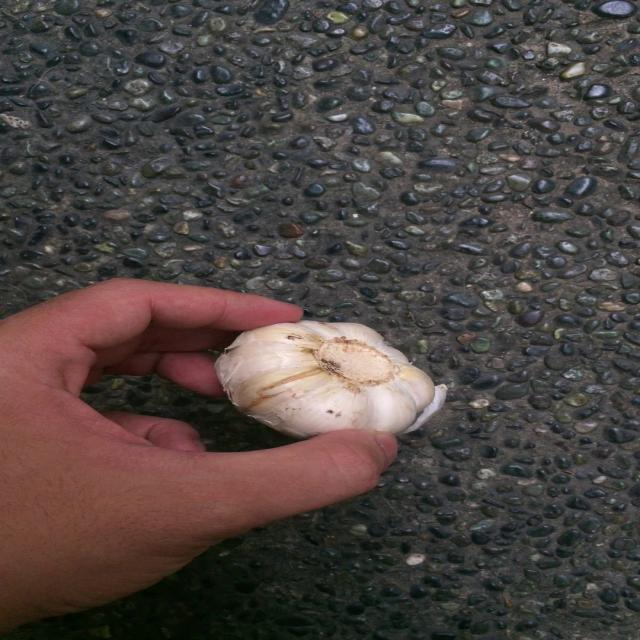garlic: (206, 313, 446, 452)
